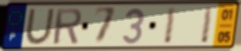3: (121, 6, 146, 46)
7: (94, 6, 117, 46)
I: (199, 6, 215, 46), (162, 6, 178, 46)
R: (52, 7, 83, 46)
U: (24, 7, 57, 46)
